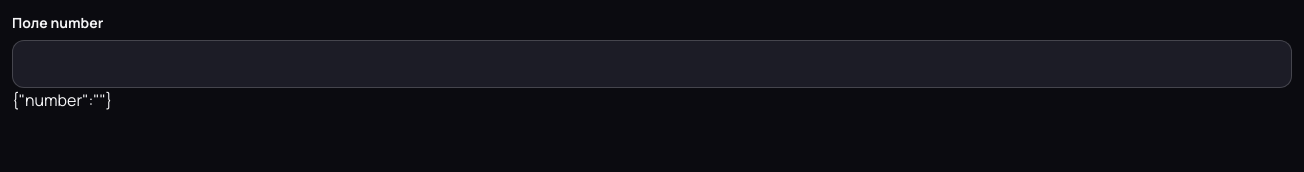
Test: DynamicField — сам выбирает элемент по типу поля › number → поле с цифровой клавиатурой, введённый текст не теряется
This screenshot has width=1304, height=172.
Step 1. Type "2x" into the field labelled "Поле number" → {"x": 652, "y": 64}, box x1=12 y1=40 x2=1292 y2=88
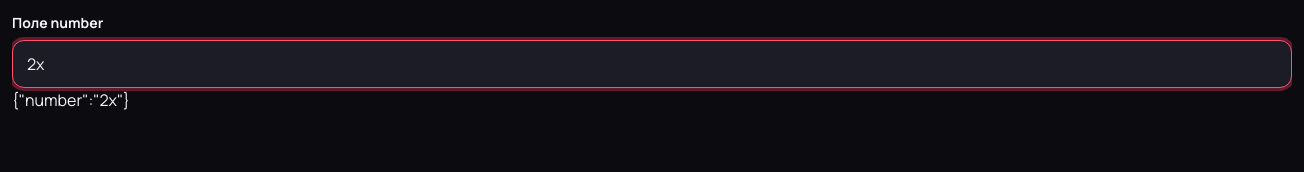
Expected: the text with test id "values" shows "\"number\":\"2x\"", x1=12 y1=90 x2=130 y2=112
